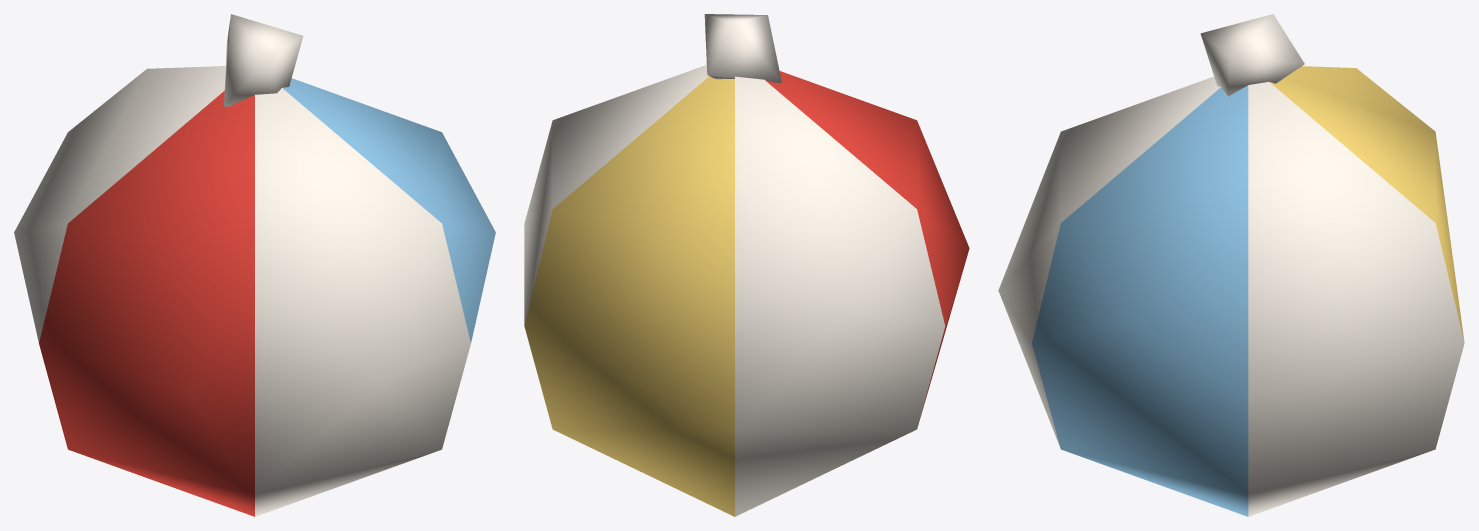
File: beach_ball.glb
The picture shows the model from 3 angles, left to right: view 1: azimuth 30°, elevation 25°; view 2: azimuth 150°, elevation 25°; view 3: azimuth 270°, elevation 25°; orthographic projection. The views are drawn at different scales.
Parts seen in each view (by area): view 1: beach_ball; view 2: beach_ball; view 3: beach_ball.
Part boxes in pixels (x1,y1,x2,y2): beach_ball: (14, 14, 495, 516); beach_ball: (524, 14, 969, 516); beach_ball: (998, 14, 1464, 516).
Bounding box in the file's own units: 0.44 × 0.4833 × 0.4106.
1 material, 1 textured.
